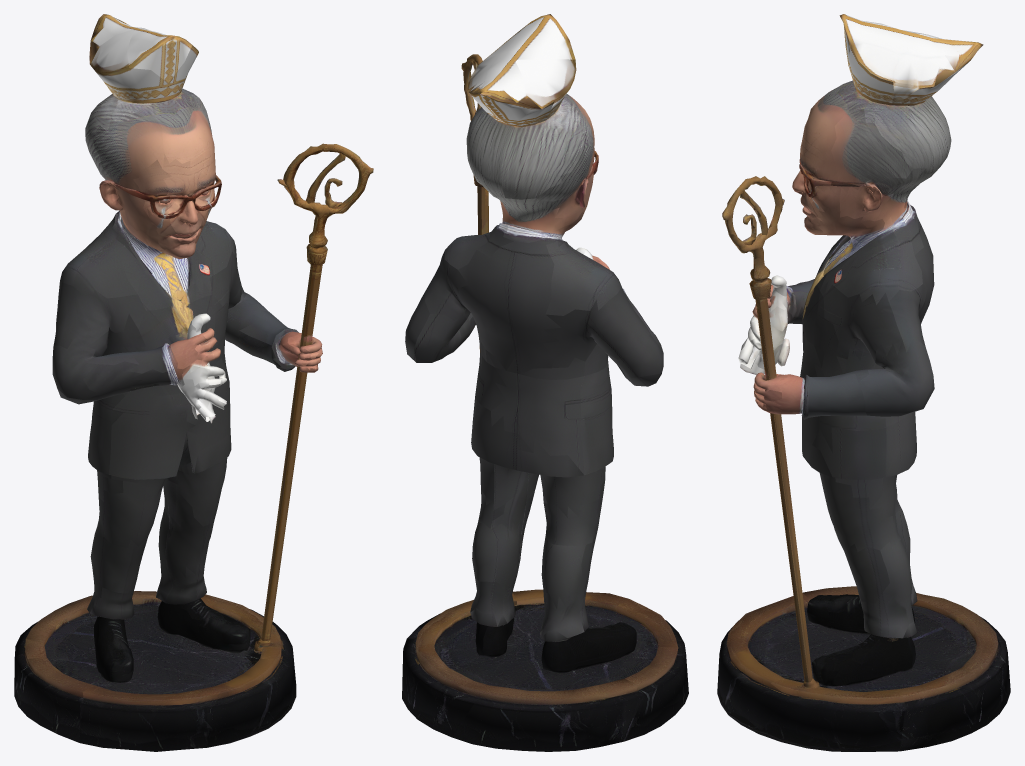
File: left-bishop-schumer.glb
3 views of the same model, side by side, from view 1: azimuth 30°, elevation 25°; view 2: azimuth 150°, elevation 25°; view 3: azimuth 270°, elevation 25° (orthographic). The views are drawn at different scales.
Bounding box in the file's own units: 0.4307 × 1 × 0.3916.
1 material, 1 textured.
